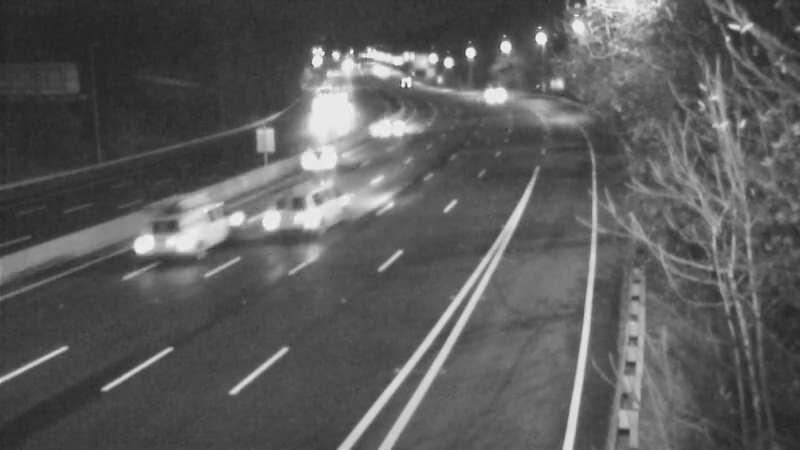vehicle: (269, 120, 349, 200), (267, 178, 347, 258), (152, 190, 232, 270), (381, 55, 431, 105), (463, 71, 513, 121), (362, 104, 412, 154), (297, 83, 347, 133)
